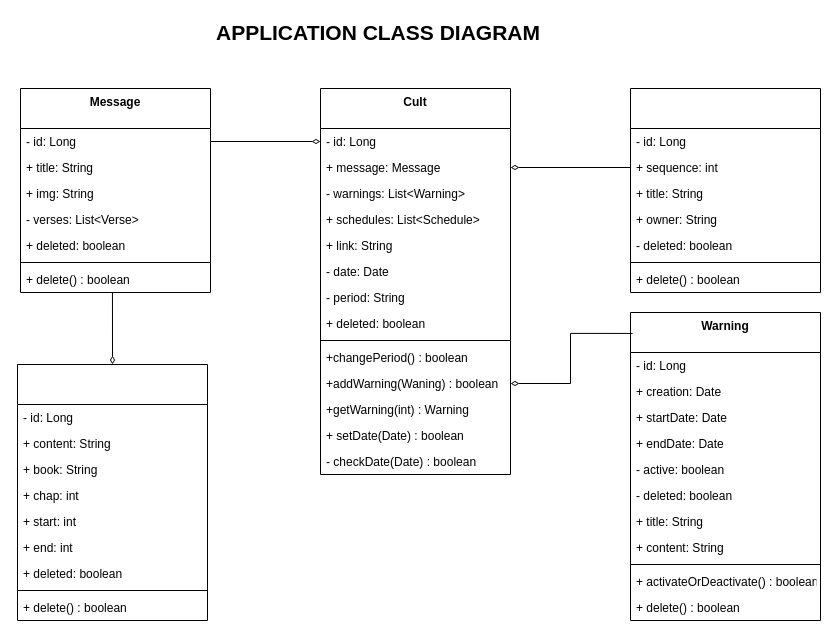
The diagram is 838 pixels wide and 640 high, and some of its shapes have lost their labels. Each missing label, with the box of its shape:
Schedule: (630, 88, 820, 292)
Verse: (16, 364, 208, 620)
